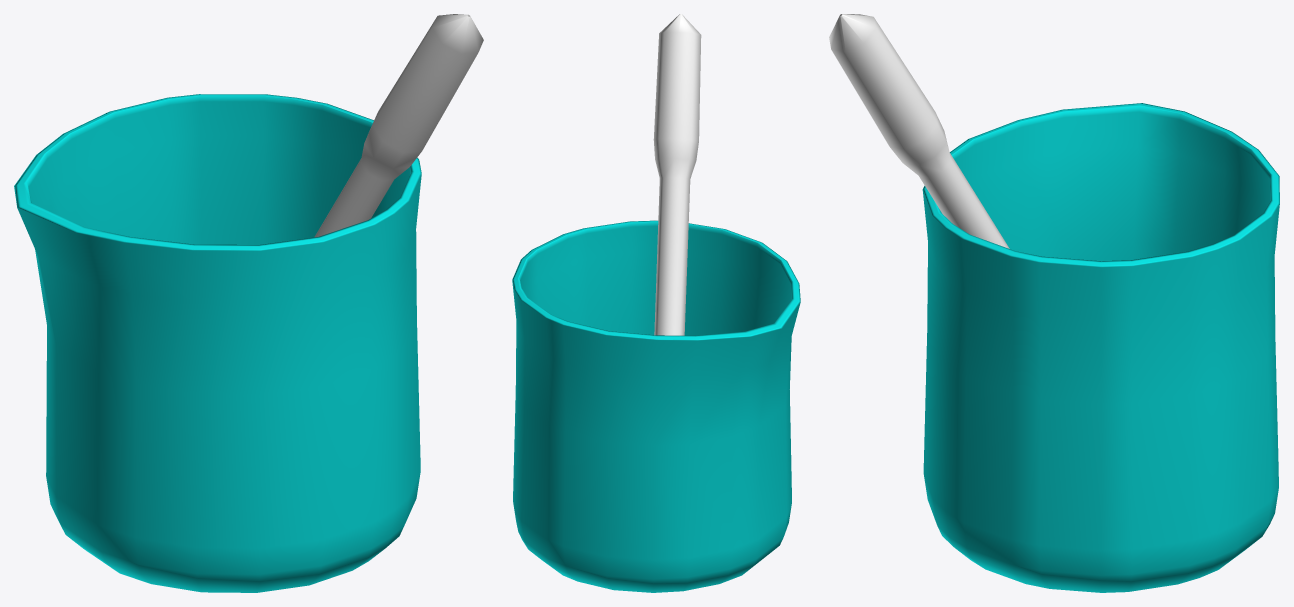
The model's file is Dropper.fbx.
3 views of the same model, side by side, from view 1: azimuth 30°, elevation 25°; view 2: azimuth 150°, elevation 25°; view 3: azimuth 270°, elevation 25° (orthographic). The views are drawn at different scales.
Parts seen in each view (by area): view 1: Dropper1, Dropper2; view 2: Dropper1, Dropper2; view 3: Dropper1, Dropper2.
Part boxes in pixels (<box>): Dropper1: <box>14,94,421,592</box>; Dropper2: <box>314,14,483,237</box>; Dropper1: <box>512,220,800,592</box>; Dropper2: <box>653,14,701,335</box>; Dropper1: <box>922,103,1279,592</box>; Dropper2: <box>829,14,1009,248</box>.
Bounding box in the file's own units: 3.04 × 4.88 × 3.47.
